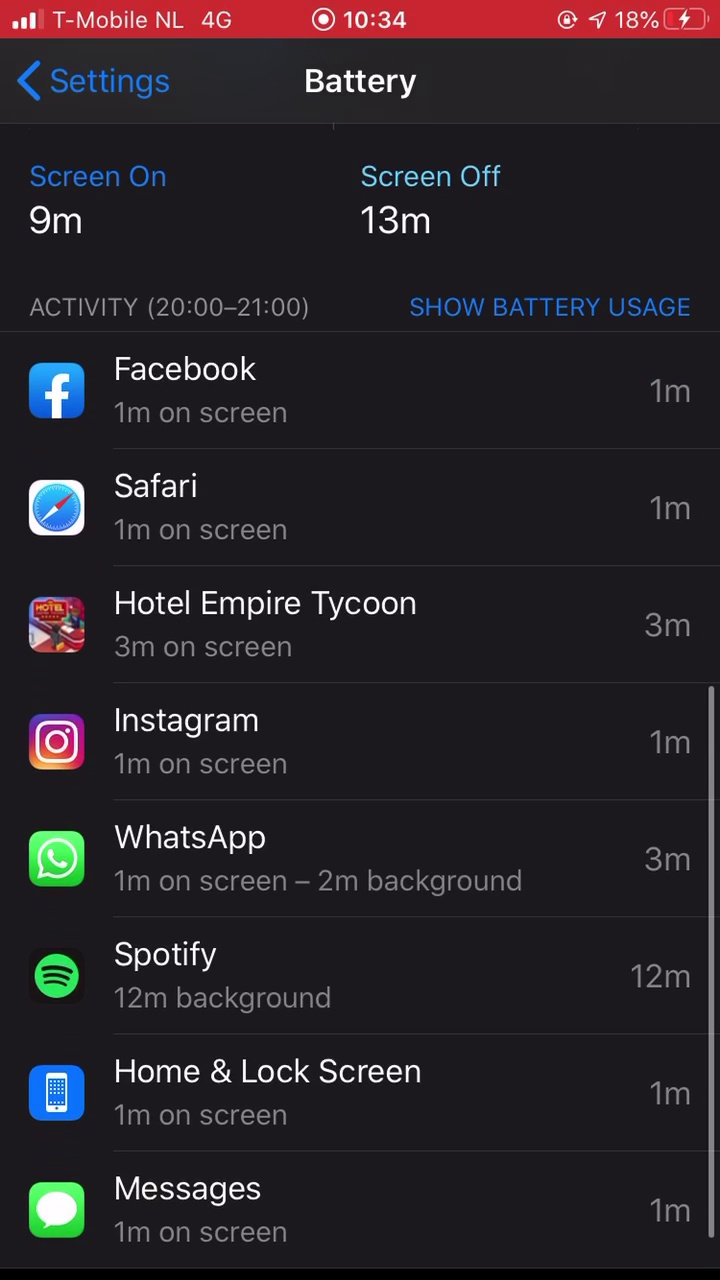activity: (13, 285, 328, 326)
app: (11, 346, 711, 444), (11, 461, 711, 559), (7, 581, 707, 679), (3, 689, 703, 787), (5, 813, 705, 911), (5, 932, 705, 1030), (1, 1045, 701, 1143), (5, 1161, 705, 1259)
